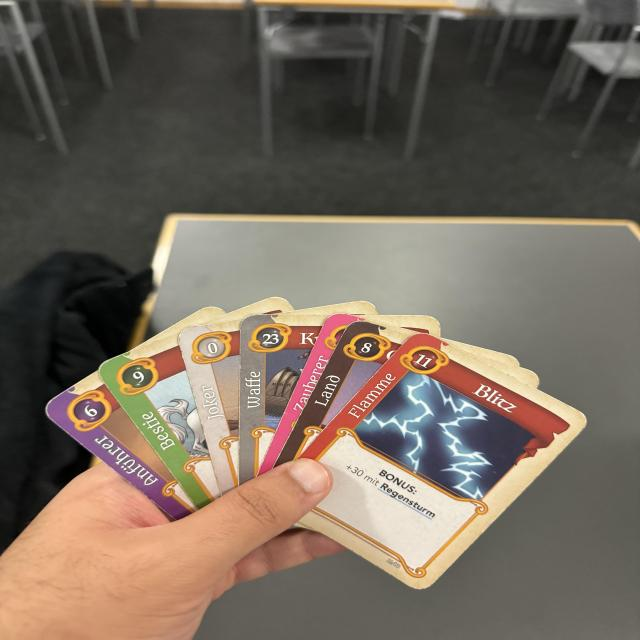Beast Master: (256, 313, 356, 475)
Clock Tower: (272, 321, 411, 469)
Lightning: (296, 332, 592, 594)
Mirage: (178, 323, 239, 498)
Queen: (46, 373, 198, 522)
Unicorn: (96, 335, 222, 511)
Warship: (237, 316, 324, 483)
